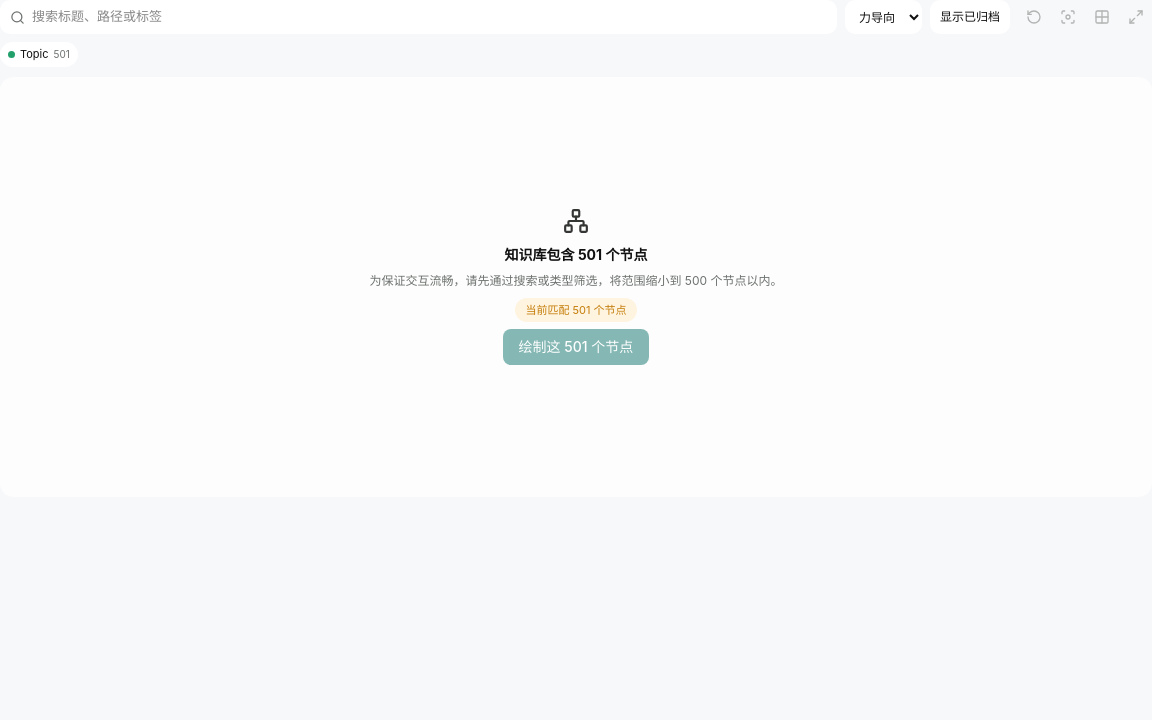
Test: KnowledgeGraphVisualization › requires an explicit filtered scope before drawing more than 500 nodes
expect the element with class "kgv-scope-gate" shows "501": met, box [578, 246, 602, 263]
Type "only-match" into the search field named "搜索知识图谱".
click(430, 17); type("only-match")  # box [32, 7, 827, 27]
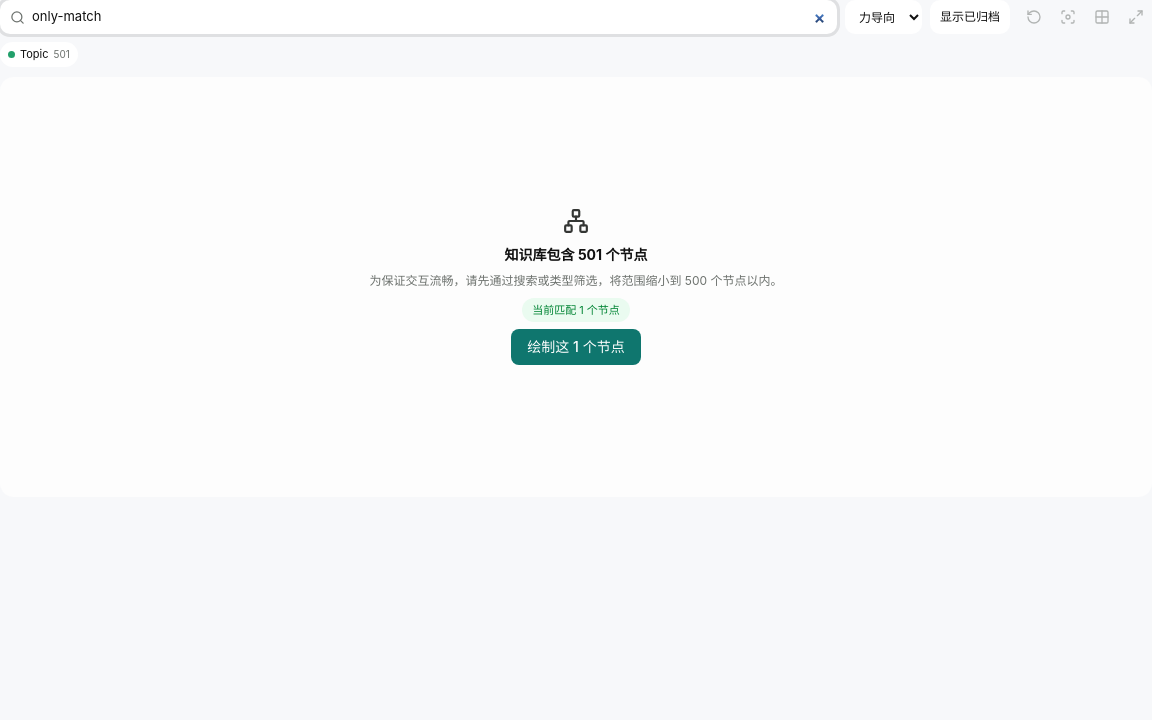
Click the button "绘制这 1 个节点".
click(576, 347)  # box [511, 329, 641, 365]
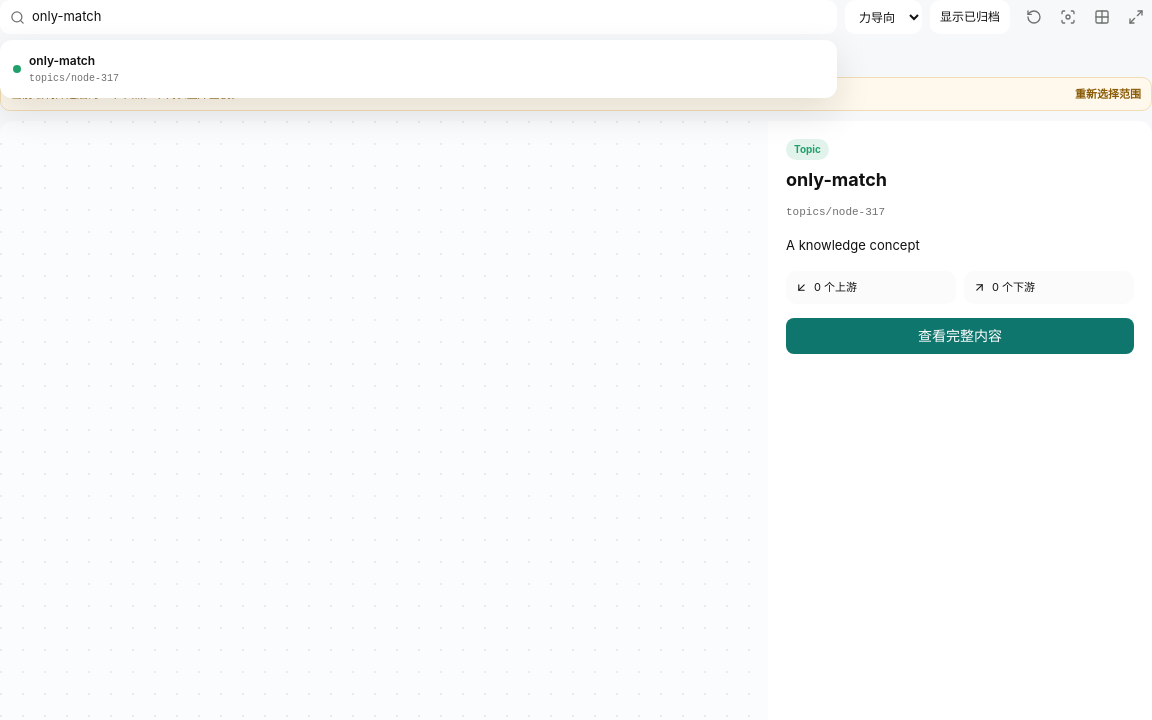
expect the text "当前绘制筛选后的 1 个节点，不代表整库全貌。" is shown: met, box [11, 86, 242, 102]
